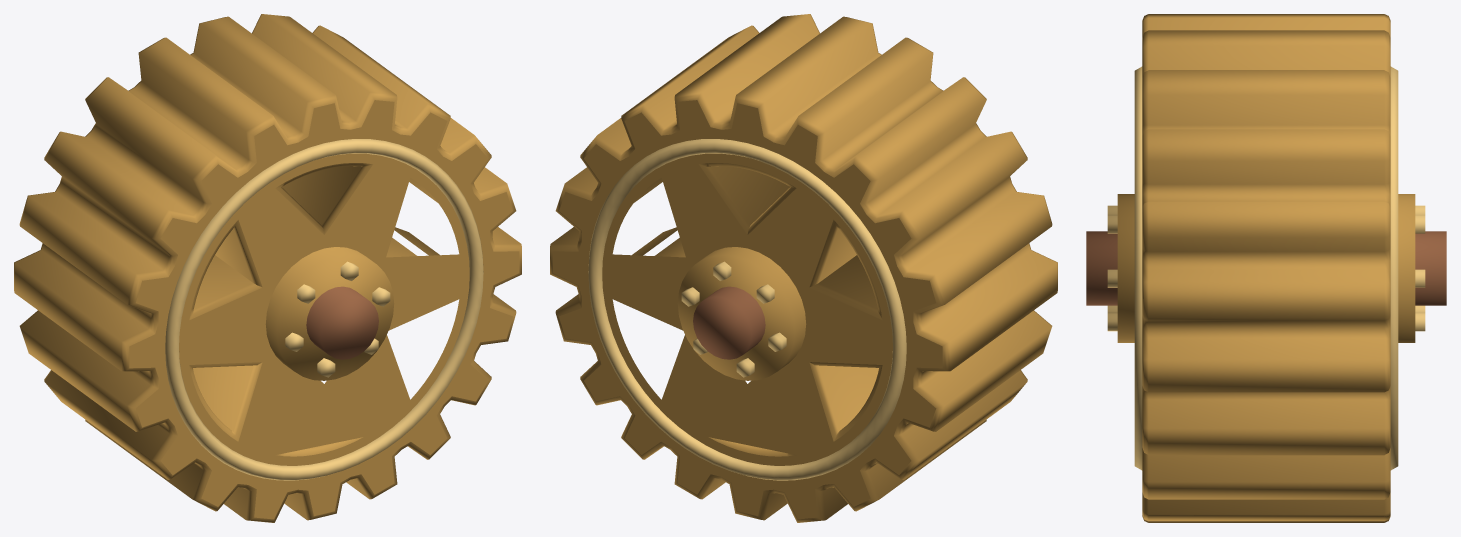
Rendered from gear-20.glb.
3 renders of one model, left to right at view 1: azimuth 30°, elevation 25°; view 2: azimuth 150°, elevation 25°; view 3: azimuth 270°, elevation 25°, orthographic. The views are drawn at different scales.
Parts seen in each view (by area): view 1: gear; view 2: gear; view 3: gear.
Part boxes in pixels (x1,y1,x2,y2): gear: (14, 14, 521, 522); gear: (550, 14, 1057, 522); gear: (1086, 14, 1446, 522).
Size of the model in its own units: 2.05 by 2.05 by 1.45.
